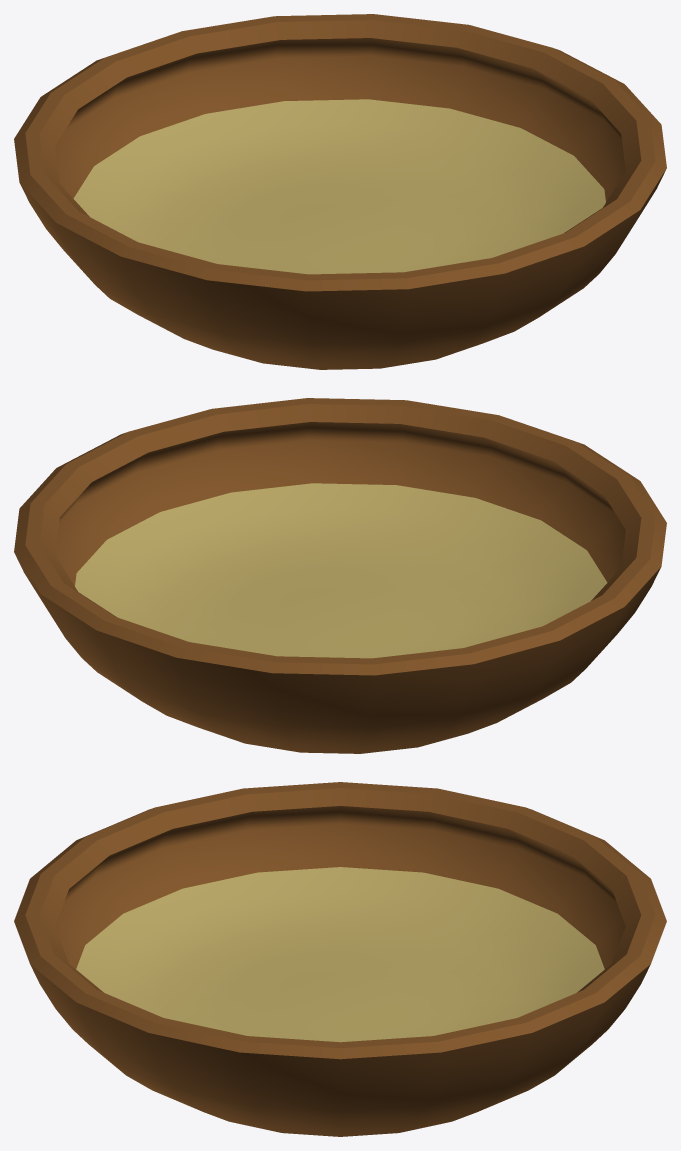
The model's file is mesh_bowl_batter.fbx.
3 views of the same model, one above another, from view 1: azimuth 30°, elevation 25°; view 2: azimuth 150°, elevation 25°; view 3: azimuth 270°, elevation 25° (orthographic).
Visible parts, largest first — view 1: mesh_bowl_batter; view 2: mesh_bowl_batter; view 3: mesh_bowl_batter.
Part boxes in pixels (x1,y1,x2,y2): mesh_bowl_batter: [14, 14, 666, 369]; mesh_bowl_batter: [14, 398, 666, 753]; mesh_bowl_batter: [14, 782, 666, 1136].
Bounding box in the file's own units: 0.4313 × 0.1033 × 0.4315.
